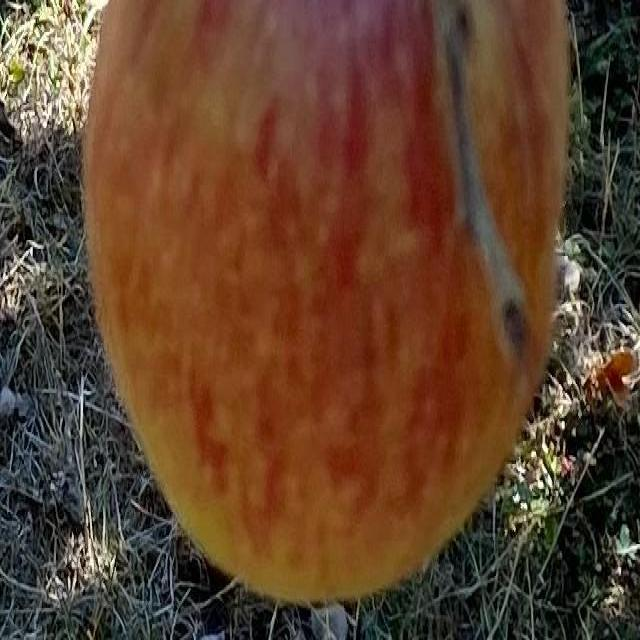Rotten Apple: (83, 0, 569, 597)
